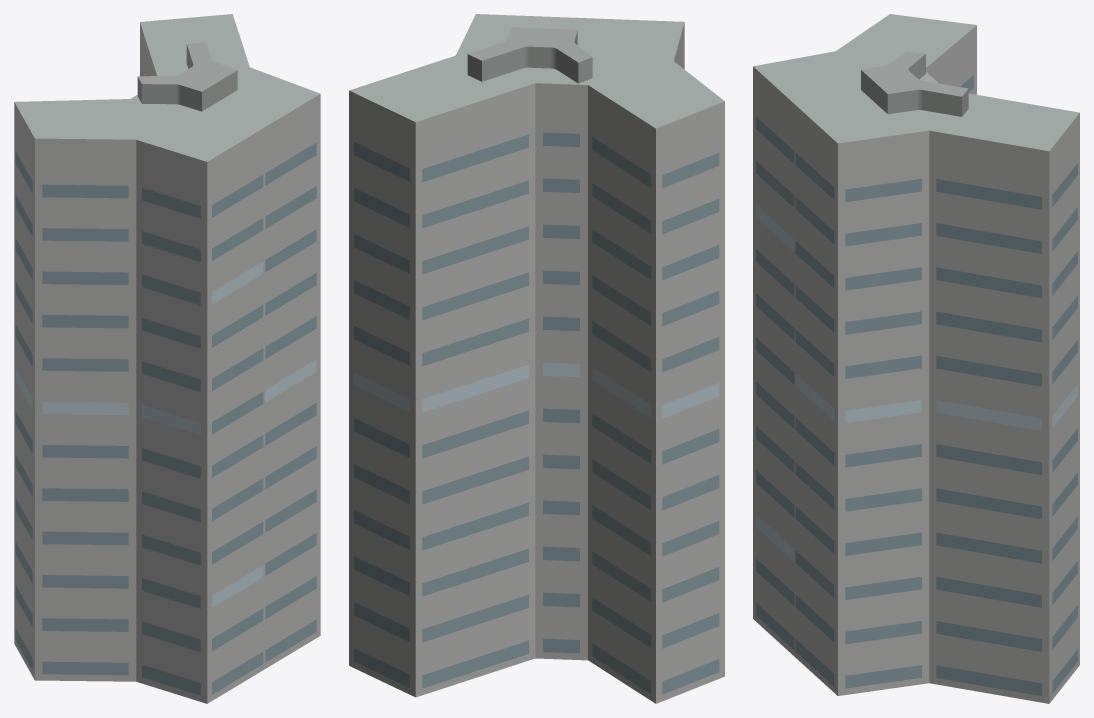
The model's file is fallback-jamsil-els-124.glb.
3 renders of one model, left to right at view 1: azimuth 30°, elevation 25°; view 2: azimuth 150°, elevation 25°; view 3: azimuth 270°, elevation 25°, orthographic. The views are drawn at different scales.
Visible parts, largest first — view 1: fallback-jamsil-els-124; view 2: fallback-jamsil-els-124; view 3: fallback-jamsil-els-124.
Boxes of the visible parts, x1,y1,x2,y2 form: fallback-jamsil-els-124: (14,14,320,703); fallback-jamsil-els-124: (349,14,724,703); fallback-jamsil-els-124: (753,14,1079,703).
Size of the model in its own units: 34.96 by 68 by 35.15.
